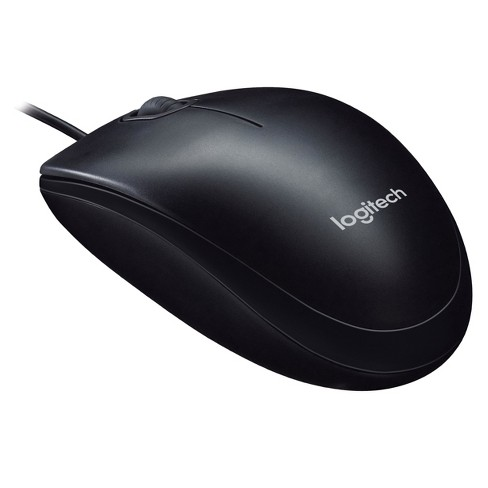Mouse: (28, 77, 479, 401)
